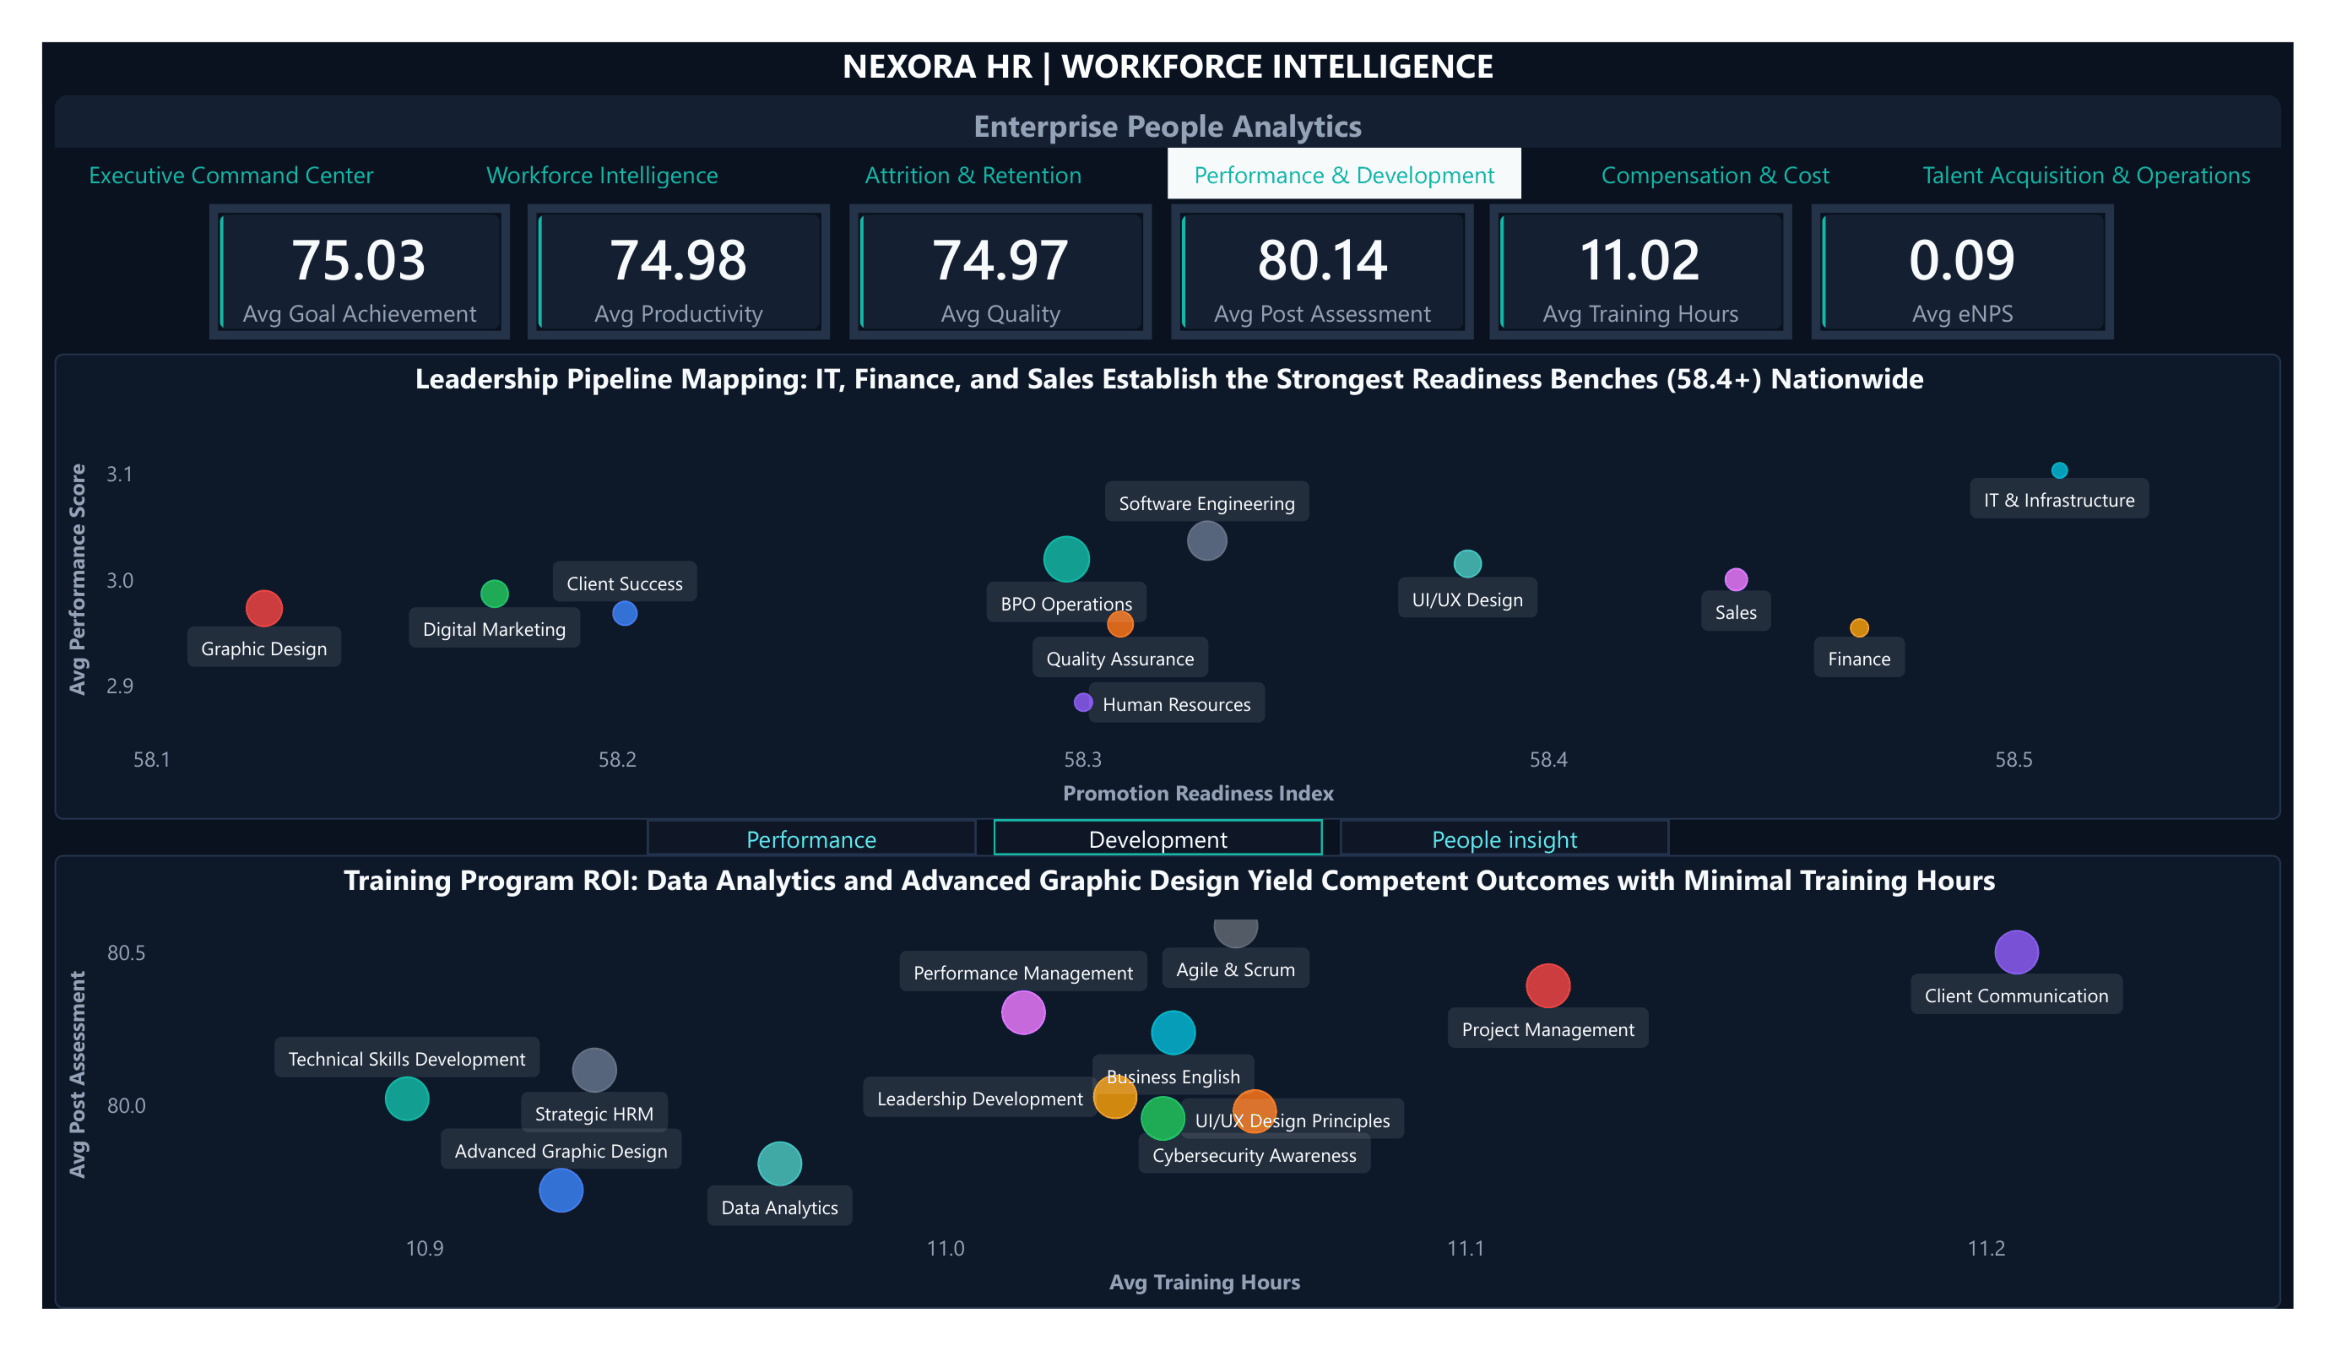

What the dashboard file says about the page in this screenshot:
{"tool":"powerbi","page":{"name":"Performance & Development","canvas":[1280,720],"ordinal":3},"visuals":[{"type":"shape","title":"NEXORA HR | WORKFORCE INTELLIGENCE","box":[7.1,0,1265.7,60],"z":0},{"type":"scatterChart","title":"Leadership Pipeline Mapping: IT, Finance, and Sales Establish the Strongest Readiness Benches (58.4+) Nationwide","fields":{"X":["_Measures.Promotion Readiness Index"],"Y":["_Measures.Avg Performance Score"],"Category":["DimDepartment.DepartmentName"],"Series":["DimDepartment.DepartmentName"],"Size":["_Measures.Employee Count"]},"box":[7.1,177.2,1265.7,265],"z":2000},{"type":"pageNavigator","box":[7.1,59.5,1255.7,29.8],"z":3000},{"type":"cardVisual","fields":{"Data":["_Measures.Avg Goal Achievement"]},"box":[95,92.1,171.5,76.5],"z":6000},{"type":"cardVisual","fields":{"Data":["_Measures.Avg Productivity"]},"box":[276.4,92.1,171.5,76.5],"z":8000},{"type":"cardVisual","fields":{"Data":["_Measures.Avg Quality"]},"box":[459.2,92.1,171.5,76.5],"z":9000},{"type":"cardVisual","fields":{"Data":["_Measures.Avg Post Assessment"]},"box":[642,92.1,171.5,76.5],"z":10000},{"type":"cardVisual","fields":{"Data":["_Measures.Avg Training Hours"]},"box":[823.5,92.1,171.5,76.5],"z":11000},{"type":"cardVisual","fields":{"Data":["_Measures.Avg eNPS"]},"box":[1006.3,92.1,171.5,76.5],"z":12000},{"type":"scatterChart","title":"Training Program ROI: Data Analytics and Advanced Graphic Design Yield Competent Outcomes with Minimal Training Hours","fields":{"X":["_Measures.Avg Training Hours"],"Y":["_Measures.Avg Post Assessment"],"Size":["Avg(FactTraining.TrainingCost)"],"Category":["DimTraining.TrainingName"],"Series":["FactTraining.TrainingKey"]},"box":[7.1,462,1265.7,258],"z":13000},{"type":"bookmarkNavigator","box":[344.4,442.2,581.1,19.8],"z":16000}]}

Visuals, with their boxes in screenshot pixels (x1, y1, x2, y2), scaled from the page's 1280x720 canvas onto the 2336x1351 screenshot:
"NEXORA HR | WORKFORCE INTELLIGENCE" shape: bbox=[13, 0, 2323, 113]
"Leadership Pipeline Mapping: IT, Finance, and Sales Establish the Strongest Readiness Benches (58.4+) Nationwide" scatterChart: bbox=[13, 332, 2323, 830]
pageNavigator: bbox=[13, 112, 2305, 168]
cardVisual - _Measures.Avg Goal Achievement: bbox=[173, 173, 486, 316]
cardVisual - _Measures.Avg Productivity: bbox=[504, 173, 817, 316]
cardVisual - _Measures.Avg Quality: bbox=[838, 173, 1151, 316]
cardVisual - _Measures.Avg Post Assessment: bbox=[1172, 173, 1485, 316]
cardVisual - _Measures.Avg Training Hours: bbox=[1503, 173, 1816, 316]
cardVisual - _Measures.Avg eNPS: bbox=[1836, 173, 2149, 316]
"Training Program ROI: Data Analytics and Advanced Graphic Design Yield Competent Outcomes with Minimal Training Hours" scatterChart: bbox=[13, 867, 2323, 1350]
bookmarkNavigator: bbox=[629, 830, 1689, 867]
